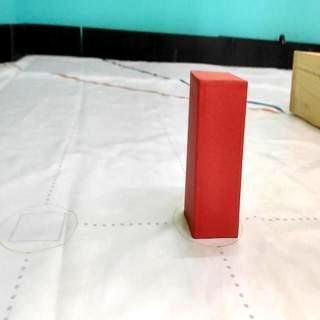redbox: (185, 72, 248, 238)
